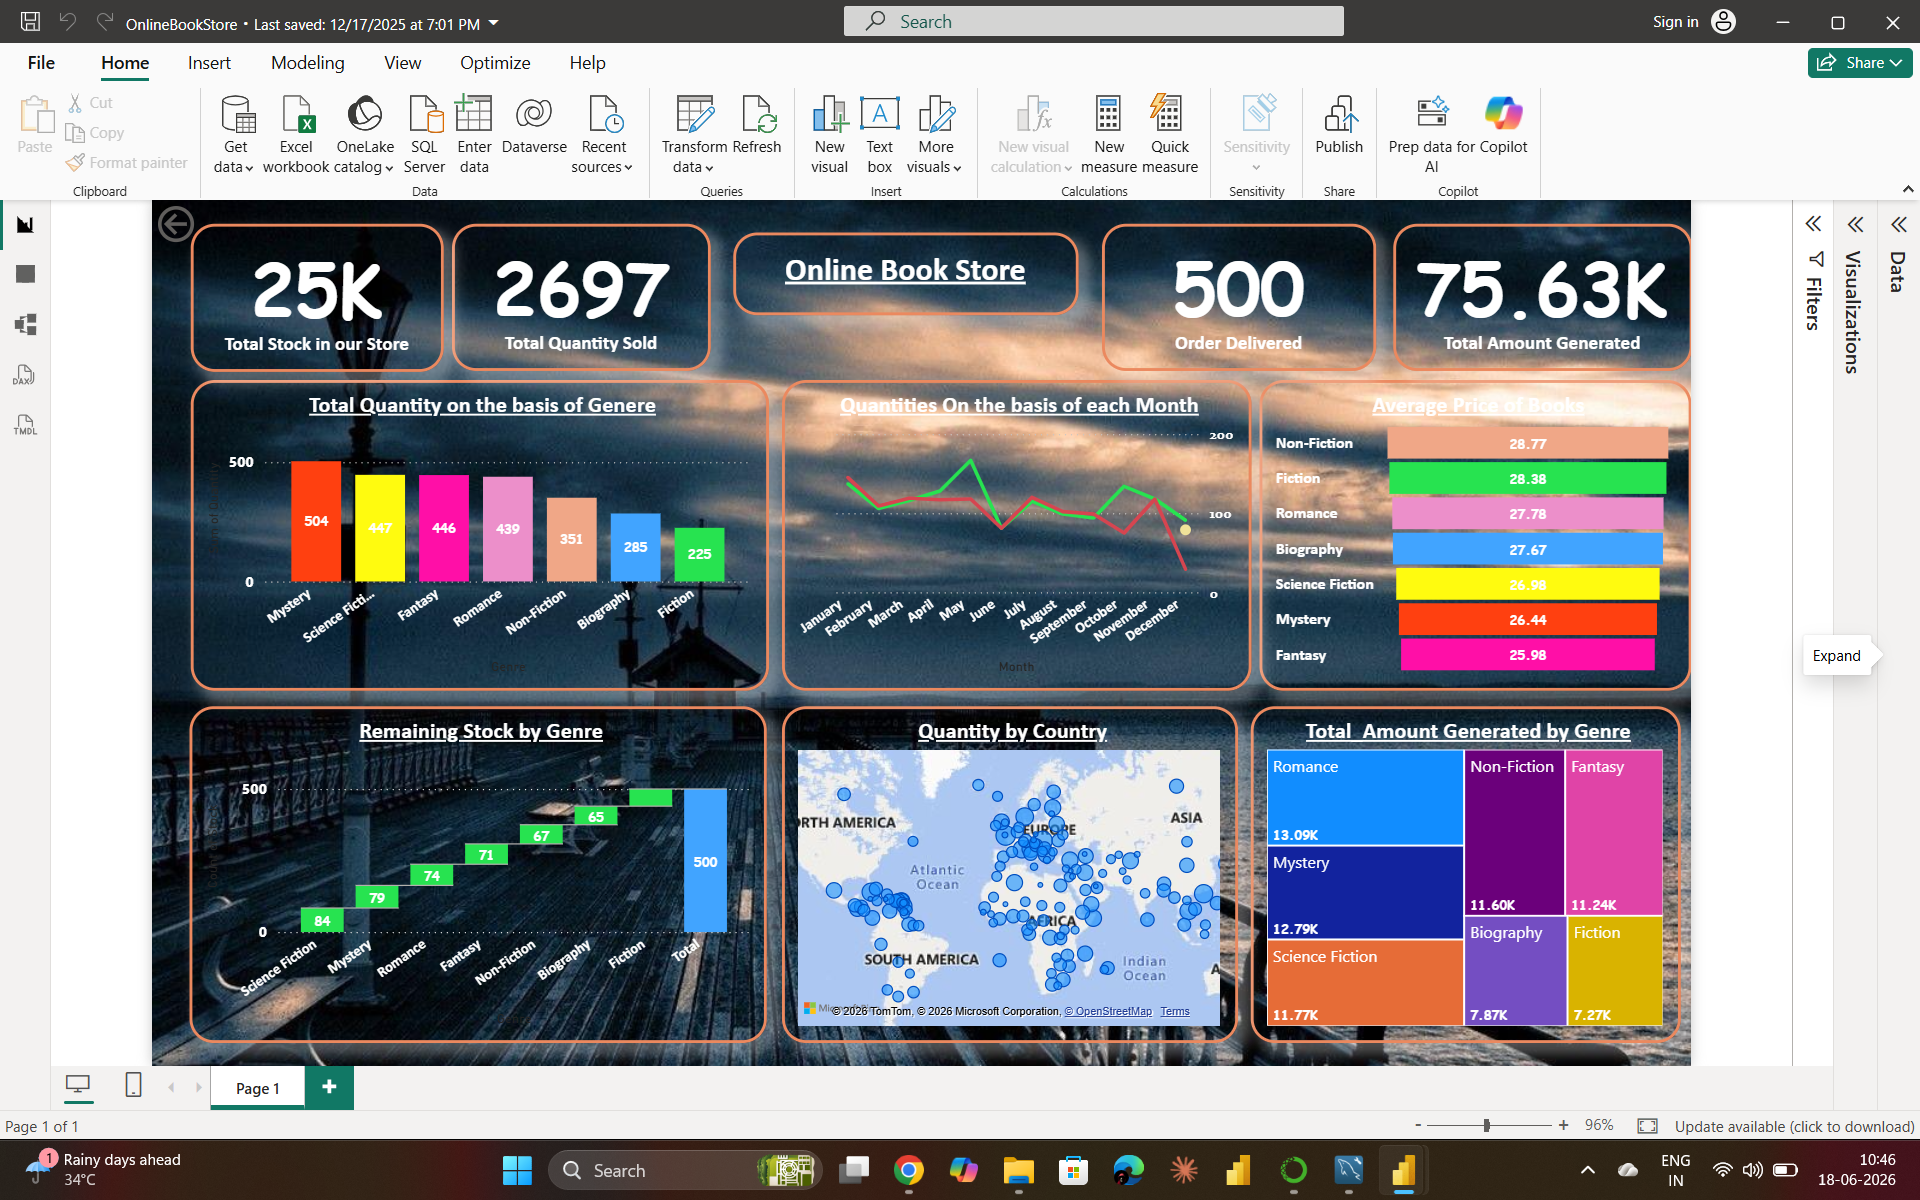

What the dashboard file says about the page in this screenshot:
{"tool":"powerbi","page":{"name":"Page 1","canvas":[1280,720],"ordinal":0},"visuals":[{"type":"columnChart","title":"Total Quantity on the basis of Genere","fields":{"Category":["onlinebookstore books.Genre"],"Y":["Sum(onlinebookstore orders.Quantity)"]},"box":[31.8,149.9,480.5,258.7],"z":0},{"type":"funnel","title":"Average Price of Books","fields":{"Y":["Avg(onlinebookstore books.Price)"],"Category":["onlinebookstore books.Genre"]},"box":[920.9,149.9,359.3,258.7],"z":1},{"type":"waterfallChart","title":"Remaining Stock by Genre","fields":{"Category":["onlinebookstore books.Genre"],"Y":["CountNonNull(onlinebookstore books.Stock)"]},"box":[31.6,421.3,480.3,279.9],"z":2},{"type":"treemap","title":"Total_Amount Generated by Genre","fields":{"Group":["onlinebookstore books.Genre"],"Values":["Sum(onlinebookstore orders.Total_Amount)"]},"box":[913.7,420.9,357.3,280.3],"z":3},{"type":"map","title":"Quantity by Country","fields":{"Category":["onlinebookstore customers.Country"],"Size":["Sum(onlinebookstore orders.Quantity)"]},"box":[523.6,420.9,378.8,280.3],"z":4},{"type":"lineChart","title":"Quantities On the basis of each Month","fields":{"Category":["onlinebookstore orders.Order_Date.Variation.Date Hierarchy.Month"],"Y":["Sum(onlinebookstore orders.Quantity)"],"Series":["onlinebookstore orders.Order_Date.Variation.Date Hierarchy.Year"]},"box":[523.6,149.9,390.1,258.7],"z":5},{"type":"card","fields":{"Values":["Count(onlinebookstore orders.Order_ID)"]},"box":[789.5,19.5,227.9,122.2],"z":7},{"type":"card","fields":{"Values":["Sum(onlinebookstore orders.Quantity)"]},"box":[249.5,19.5,215.6,122.2],"z":8},{"type":"card","fields":{"Values":["Sum(onlinebookstore orders.Total_Amount)"]},"box":[1031.8,19.5,248.4,122.2],"z":9},{"type":"card","fields":{"Values":["Sum(onlinebookstore books.Stock)"]},"box":[31.8,19.5,210.5,123.2],"z":10},{"type":"actionButton","box":[0,0,100,40],"z":11},{"type":"textbox","box":[483.5,26.7,287.5,68.8],"z":12}]}

Visuals, with their boxes on the page's 1280x720 design canvas (x1, y1, x2, y2). These are canvas units, not pixel positions in the 1920x1200 screenshot, which may show the page scaled, cropped or inside an application window:
"Total Quantity on the basis of Genere" columnChart: select_region(32, 150, 512, 409)
"Average Price of Books" funnel: select_region(921, 150, 1280, 409)
"Remaining Stock by Genre" waterfallChart: select_region(32, 421, 512, 701)
"Total_Amount Generated by Genre" treemap: select_region(914, 421, 1271, 701)
"Quantity by Country" map: select_region(524, 421, 902, 701)
"Quantities On the basis of each Month" lineChart: select_region(524, 150, 914, 409)
card - Count(onlinebookstore orders.Order_ID): select_region(790, 20, 1017, 142)
card - Sum(onlinebookstore orders.Quantity): select_region(250, 20, 465, 142)
card - Sum(onlinebookstore orders.Total_Amount): select_region(1032, 20, 1280, 142)
card - Sum(onlinebookstore books.Stock): select_region(32, 20, 242, 143)
actionButton: select_region(0, 0, 100, 40)
textbox: select_region(484, 27, 771, 96)
